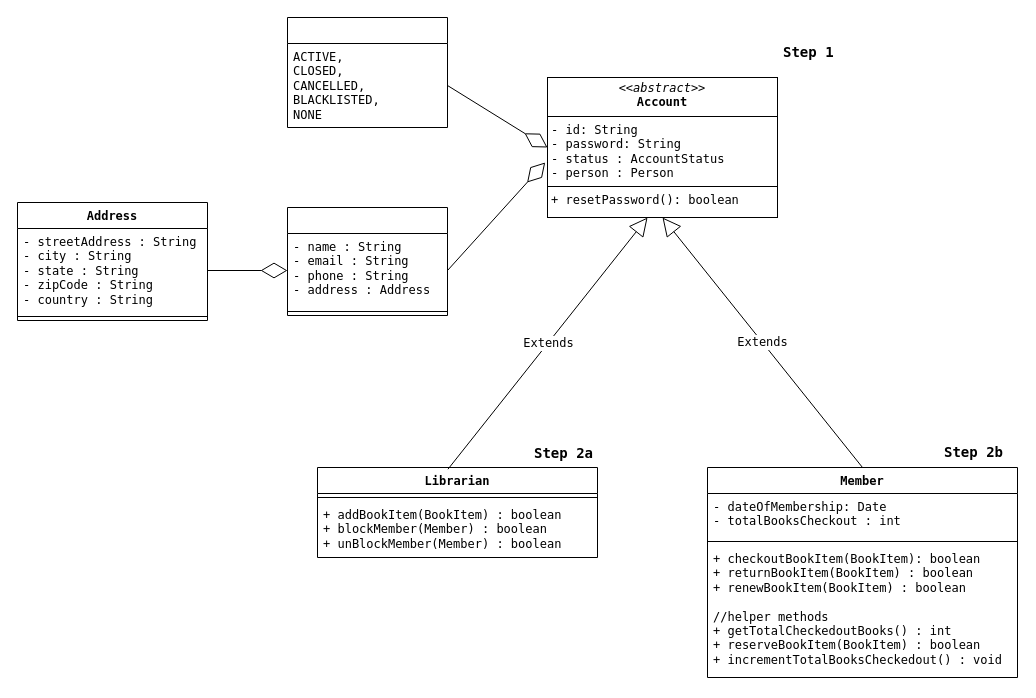
Image size: 1036x698. Some labels were removed from this diagram. The box of each missing label's shape, as (x1, y1, x2, y2) in pixels:
AccountStatus: (286, 16, 448, 128)
Person: (286, 206, 448, 316)
